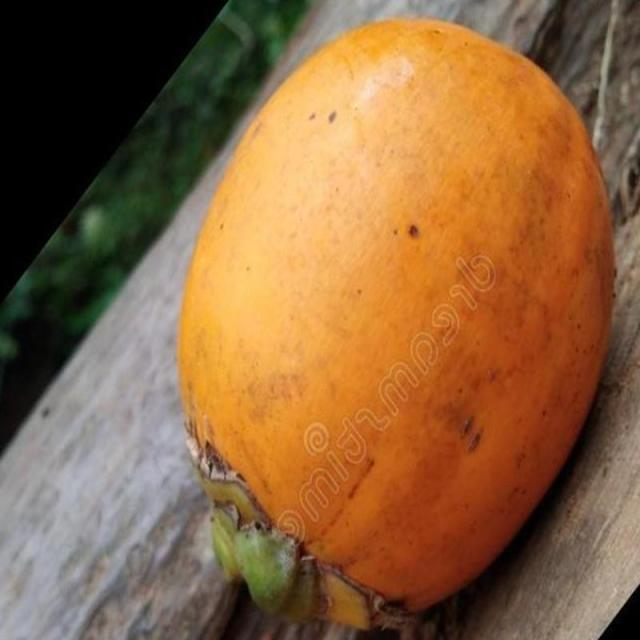good: (175, 21, 616, 634)
